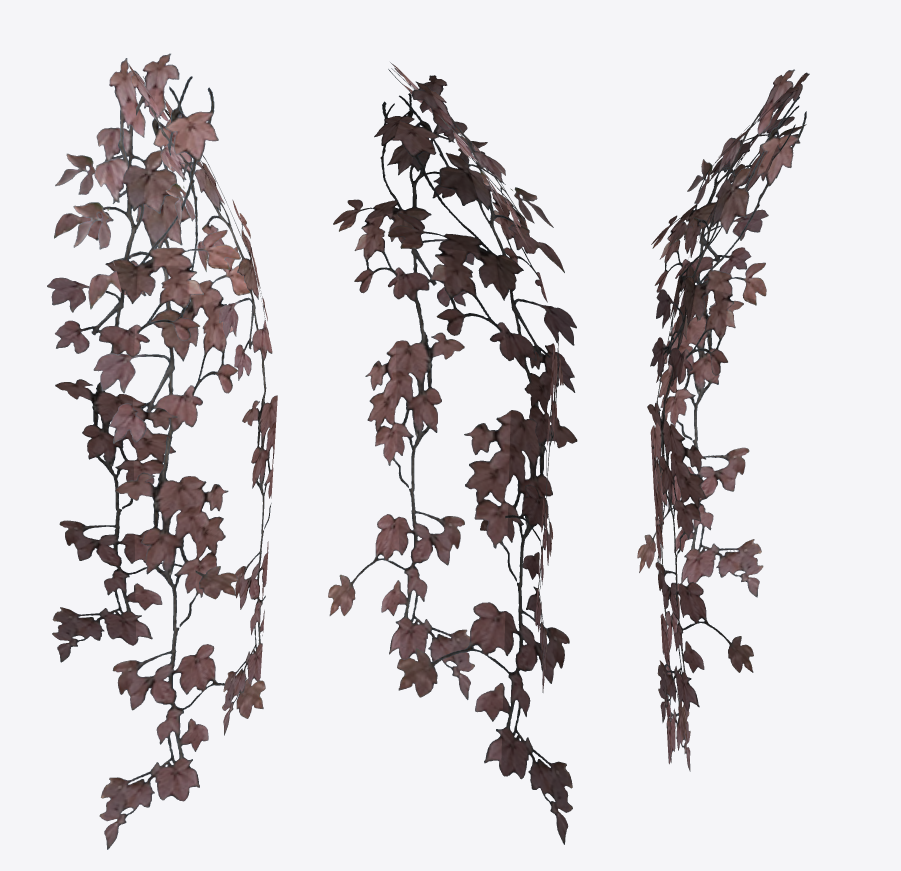
File: Model_HangingPlant_03.fbx
3 views of the same model, side by side, from view 1: azimuth 30°, elevation 25°; view 2: azimuth 150°, elevation 25°; view 3: azimuth 270°, elevation 25° (orthographic). The views are drawn at different scales.
Parts seen in each view (by area): view 1: Hanging_03; view 2: Hanging_03; view 3: Hanging_03.
Boxes of the visible parts, x1=… form: Hanging_03: x1=47, y1=53, x2=277, y2=849; Hanging_03: x1=328, y1=62, x2=577, y2=844; Hanging_03: x1=637, y1=69, x2=809, y2=771.
Size of the model in its own units: 60.97 by 185 by 58.74.
